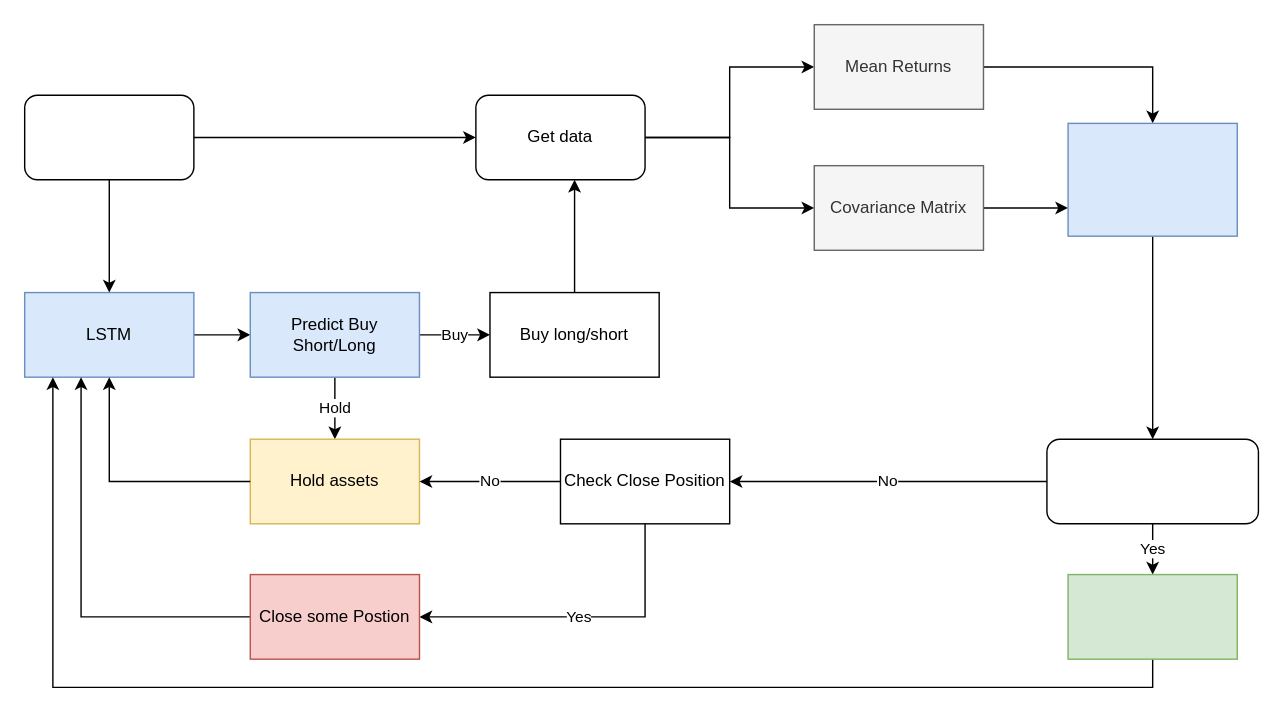
Some shapes in this 1283 by 723 pixel diagram are drawn without their labels. Here are the shapes that lost their labels. From the top down, the centre of each, then its label:
point 108,137: Data 15 day windows
point 1152,179: Markowitz Optimization or PSO
point 1152,481: Sharp Ratio > Thredhold
point 1152,616: Open Postion
